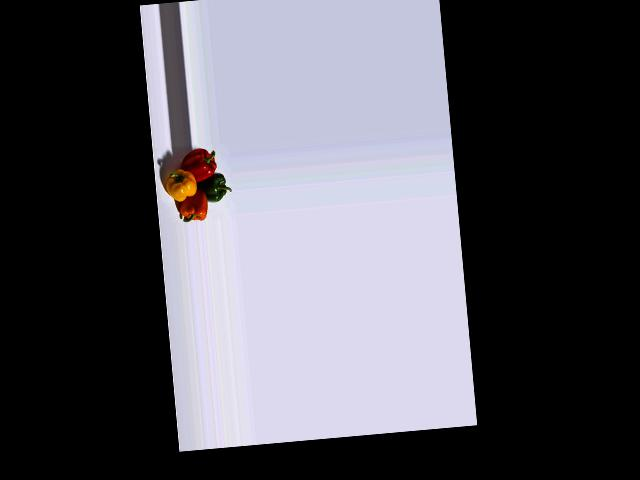bell_pepper: (179, 145, 221, 183)
